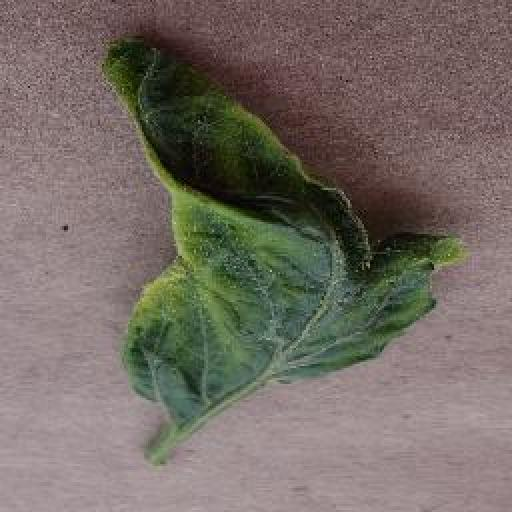disease_tomato: (99, 29, 459, 427)
